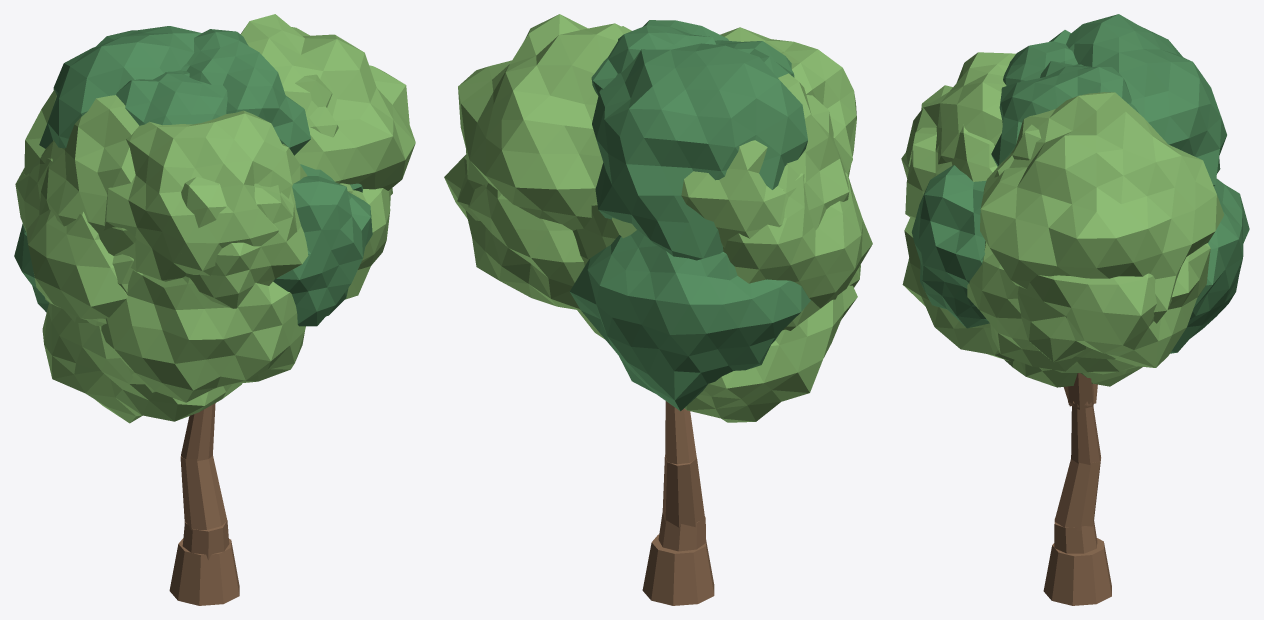
The model's file is tree-fat.glb.
3 renders of one model, left to right at view 1: azimuth 30°, elevation 25°; view 2: azimuth 150°, elevation 25°; view 3: azimuth 270°, elevation 25°, orthographic. The views are drawn at different scales.
Parts seen in each view (by area): view 1: tree-fat; view 2: tree-fat; view 3: tree-fat.
Boxes of the visible parts, x1,y1,x2,y2 form: tree-fat: [14, 14, 415, 605]; tree-fat: [444, 14, 872, 605]; tree-fat: [901, 14, 1249, 605].
Bounding box in the file's own units: 2.88 × 4.11 × 2.4.
